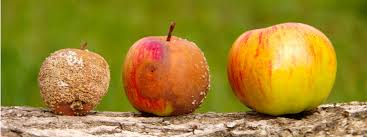apple: (230, 25, 341, 113)
damaged_apple: (125, 38, 210, 117), (39, 48, 110, 115)
